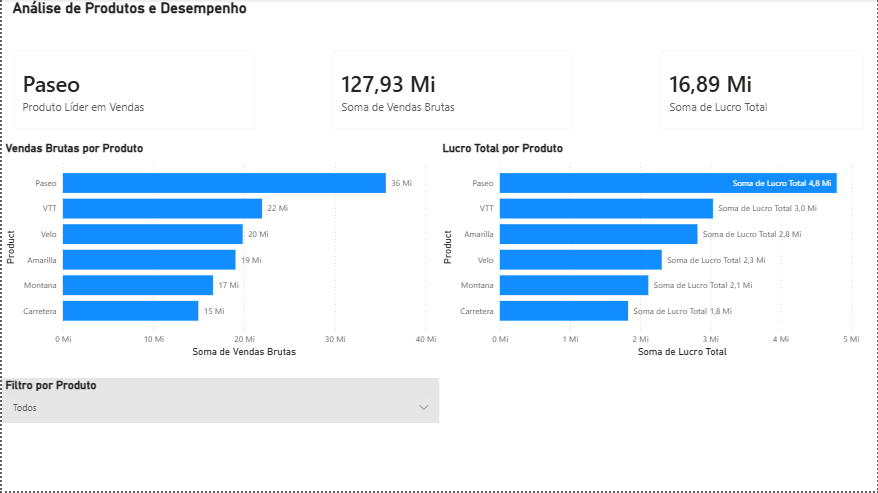

Layout of this report page (visuals, bound fields, positions):
{"tool":"powerbi","page":{"name":"Análise de Produtos","canvas":[1280,720],"ordinal":2},"visuals":[{"type":"textbox","title":"Análise de Produtos e Desempenho","box":[10.1,0,456.9,58.8],"z":0},{"type":"cardVisual","fields":{"Data":["financials.Produto Líder em Vendas"]},"box":[0,58.8,386.4,149.5],"z":1000},{"type":"cardVisual","fields":{"Data":["Sum(financials.Gross Sales)"]},"box":[467,58.8,386.4,149.5],"z":2000},{"type":"cardVisual","fields":{"Data":["Sum(financials.Profit)"]},"box":[947.4,58.8,332.6,149.5],"z":3000},{"type":"clusteredBarChart","title":"Vendas Brutas por Produto ","fields":{"Category":["financials.Product"],"Y":["Sum(financials.Gross Sales)"]},"box":[0,208.3,640,320.8],"z":4000},{"type":"clusteredBarChart","title":"Lucro Total por Produto","fields":{"Category":["financials.Product"],"Y":["Sum(financials.Profit)"]},"box":[640,208.3,640,320.8],"z":5000},{"type":"slicer","title":"Filtro por Produto","fields":{"Values":["financials.Product"]},"box":[0,554.3,640,65.5],"z":6000}]}

Visuals, with their boxes in screenshot pixels (x1, y1, x2, y2), scaled from the page's 1280x720 canvas onto the 878x493 screenshot:
"Análise de Produtos e Desempenho" textbox: region(7, 0, 320, 40)
cardVisual - financials.Produto Líder em Vendas: region(0, 40, 265, 143)
cardVisual - Sum(financials.Gross Sales): region(320, 40, 585, 143)
cardVisual - Sum(financials.Profit): region(650, 40, 877, 143)
"Vendas Brutas por Produto " clusteredBarChart: region(0, 143, 439, 362)
"Lucro Total por Produto" clusteredBarChart: region(439, 143, 877, 362)
"Filtro por Produto" slicer: region(0, 380, 439, 424)
